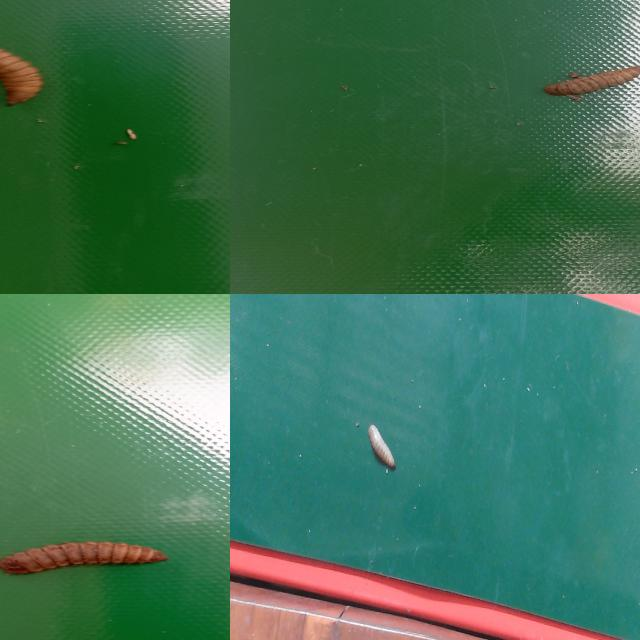Maggot: (0, 542, 167, 578), (542, 64, 640, 100), (0, 49, 44, 107), (367, 426, 397, 474)
